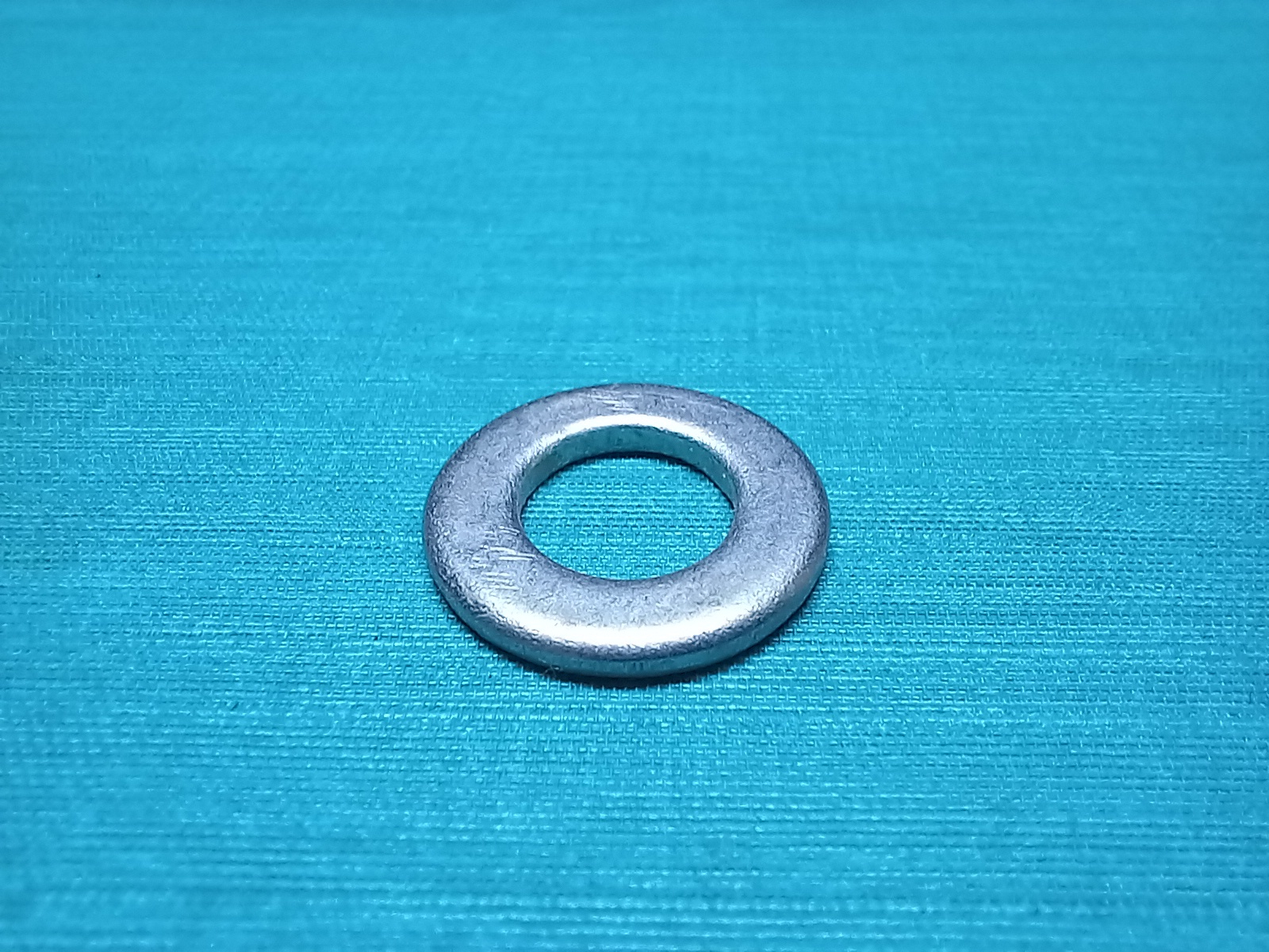washer: (416, 370, 832, 701)
